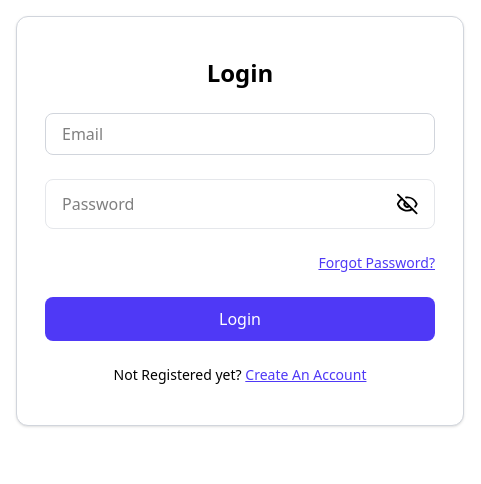
Test: Login Page › shows error for invalid email
The image size is (481, 484).
Step 1. Type "wrongemail" into the field with placeholder "Email" → x=240, y=134, box [45,113,435,155]
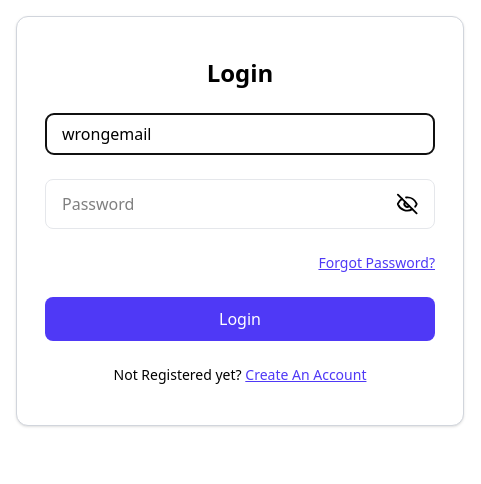
Step 2. Type "123456" into the password field with placeholder "Password" → x=229, y=204, box [62,180,396,228]
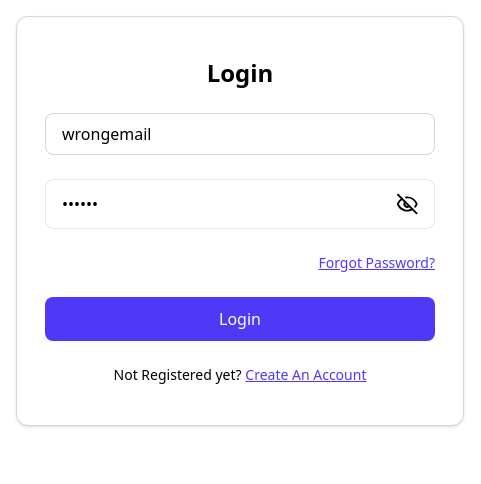
Step 3. Click the button "Login" → x=240, y=319, box [45,297,435,341]
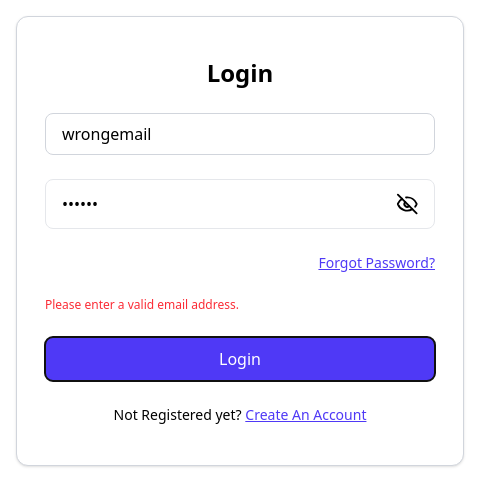
Expected: the text "Please enter a valid email address." is shown, [45,296,239,313]
